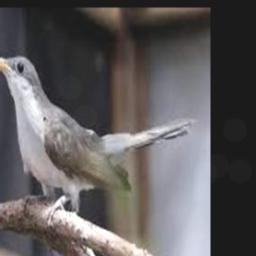Cuckoo: (0, 54, 197, 224)
